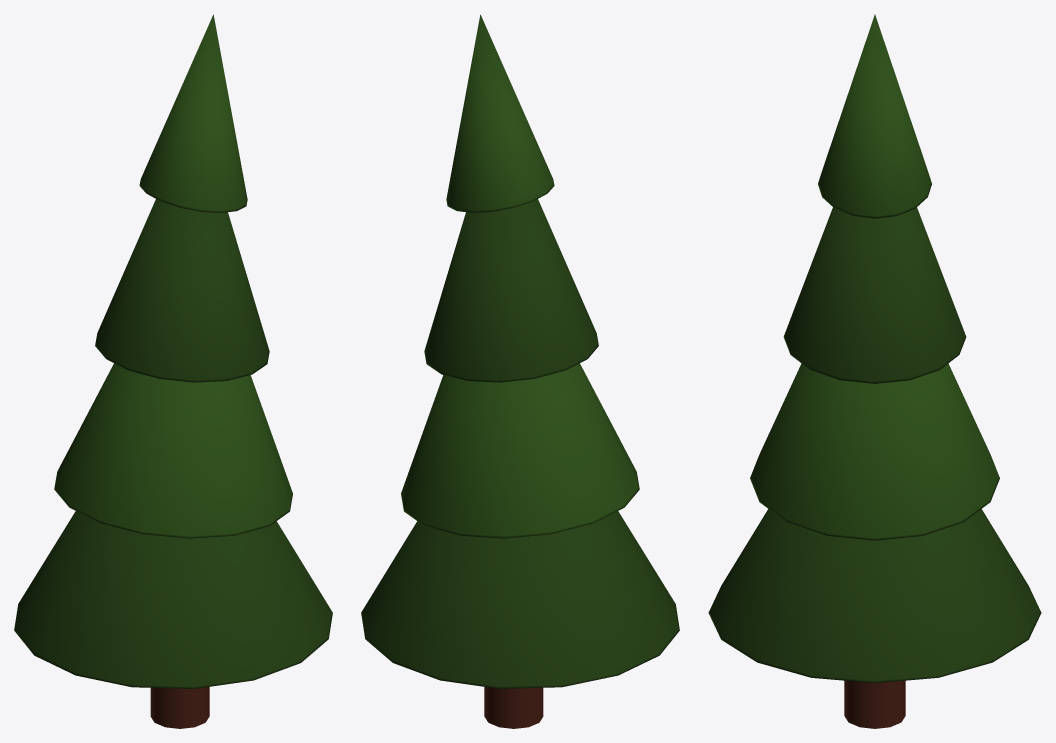
Rendered from Tree.FBX.
3 renders of one model, left to right at view 1: azimuth 30°, elevation 25°; view 2: azimuth 150°, elevation 25°; view 3: azimuth 270°, elevation 25°, orthographic. The views are drawn at different scales.
Parts seen in each view (by area): view 1: Cylinder003; view 2: Cylinder003; view 3: Cylinder003.
Part boxes in pixels (x1,y1,x2,y2): Cylinder003: [14, 14, 332, 728]; Cylinder003: [361, 14, 679, 728]; Cylinder003: [708, 14, 1041, 728].
Size of the model in its own units: 28.47 by 67.83 by 28.47.
